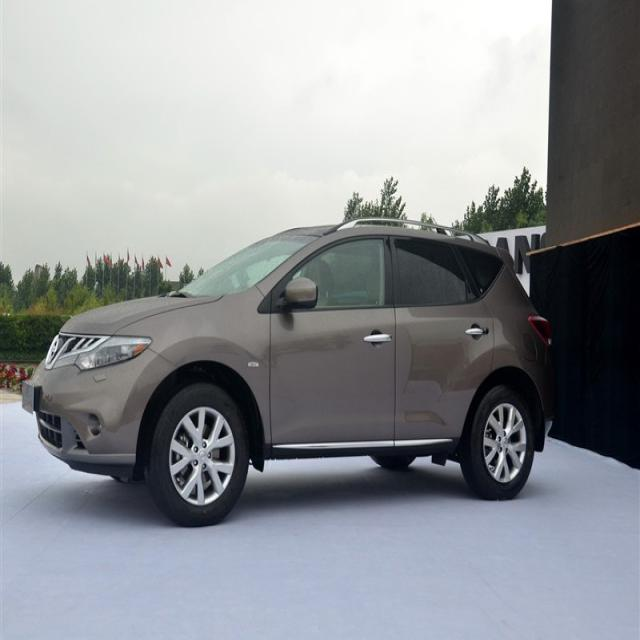back_left_side_light: (526, 310, 552, 344)
door: (389, 237, 497, 440)
front_bumper: (23, 346, 176, 478)
front_glass: (173, 233, 314, 298)
front_left_side_door: (266, 226, 399, 450)
front_left_side_light: (73, 330, 153, 372)
front_left_side_mirror: (280, 274, 320, 310)
wheel: (148, 384, 249, 526), (471, 385, 534, 497)
